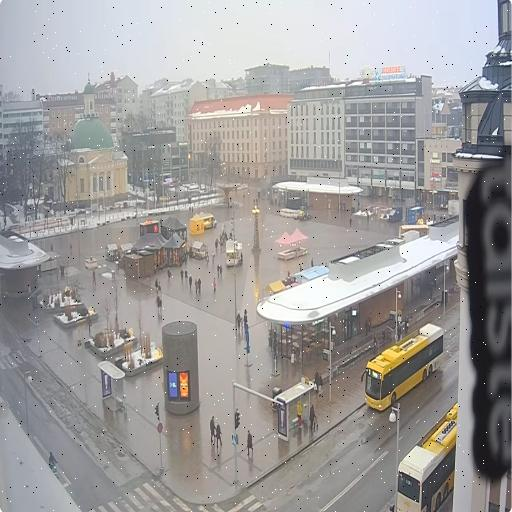Bus: (364, 324, 444, 411), (398, 403, 458, 511)
